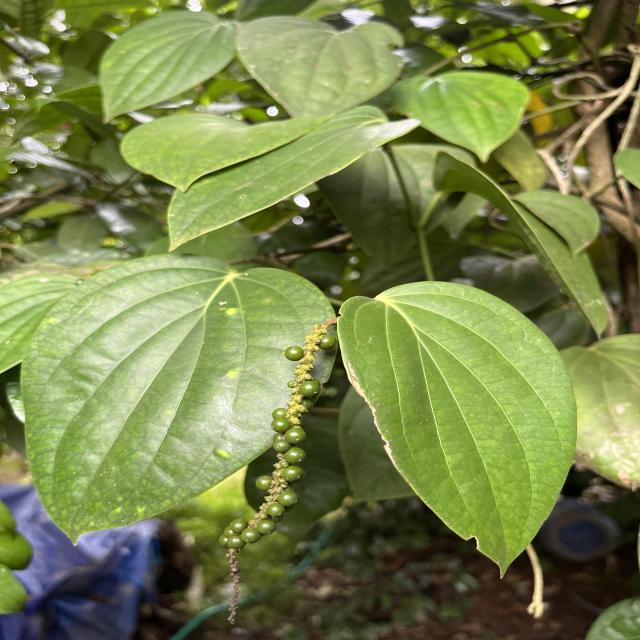Piper nigrum: (19, 252, 337, 548), (336, 279, 578, 582)
